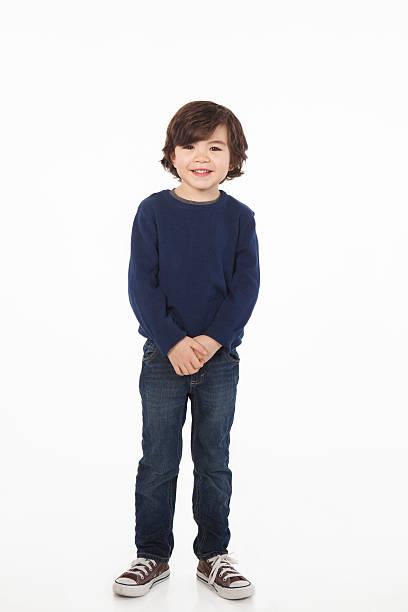Human: (99, 82, 294, 605)
